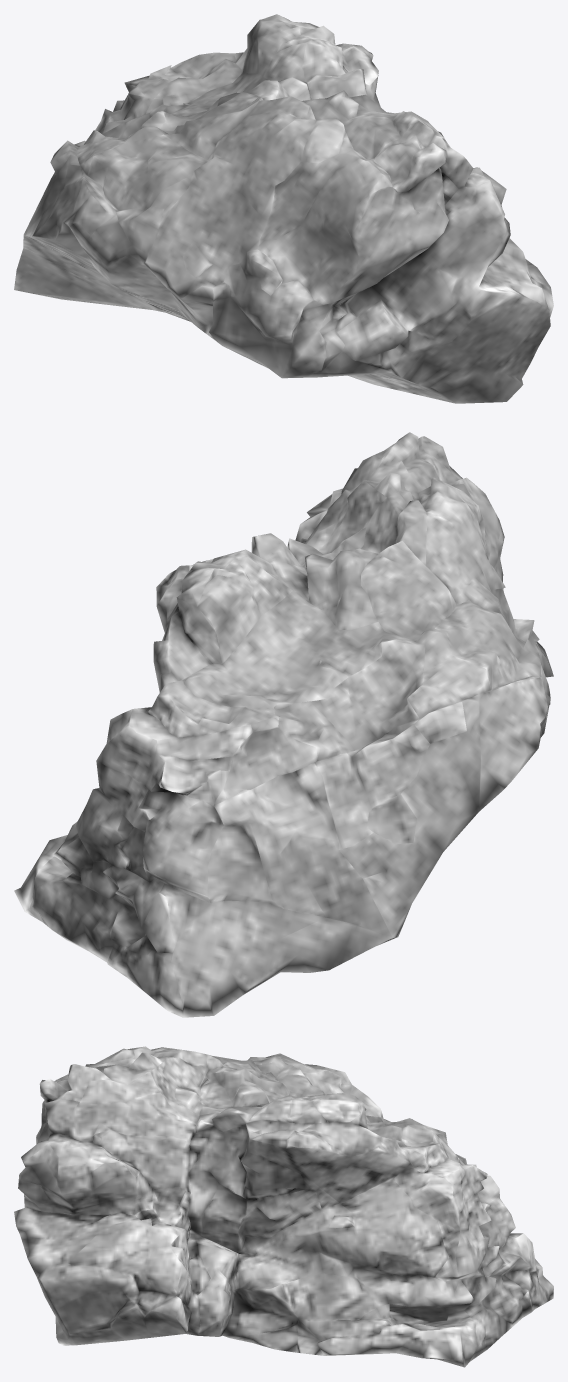
Rendered from boulder-quarried-fractured-lod1.glb.
3 renders of one model, top to bottom at view 1: azimuth 30°, elevation 25°; view 2: azimuth 150°, elevation 25°; view 3: azimuth 270°, elevation 25°, orthographic. The views are drawn at different scales.
Parts seen in each view (by area): view 1: boulder_01; view 2: boulder_01; view 3: boulder_01.
Boxes of the visible parts, left/top/right/bottom form: boulder_01: left=14, top=14, right=553, bottom=403; boulder_01: left=14, top=432, right=553, bottom=1017; boulder_01: left=14, top=1046, right=553, bottom=1367.
Size of the model in its own units: 1.27 by 1 by 1.82.
Materials: 1 (1 with a texture image).
